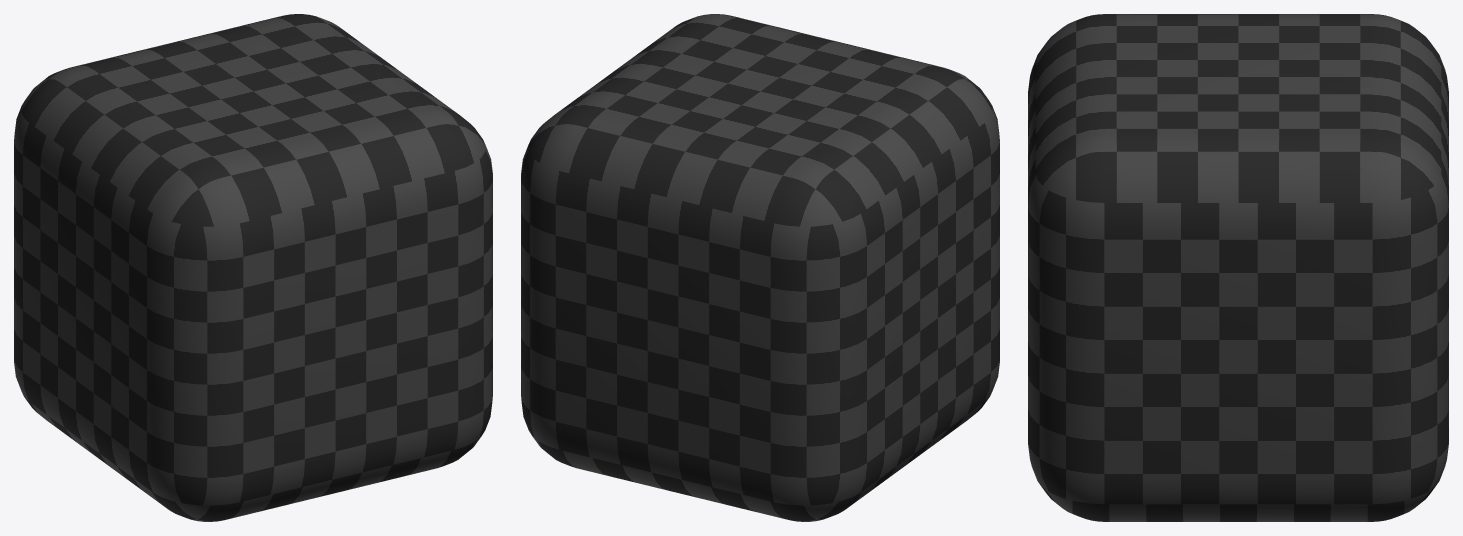
The model's file is FX_Staging_Box_1.FBX.
3 views of the same model, side by side, from view 1: azimuth 30°, elevation 25°; view 2: azimuth 150°, elevation 25°; view 3: azimuth 270°, elevation 25° (orthographic). The views are drawn at different scales.
Parts seen in each view (by area): view 1: FX_Staging_Box; view 2: FX_Staging_Box; view 3: FX_Staging_Box.
Part boxes in pixels (x1=…): FX_Staging_Box: x1=14, y1=14, x2=492, y2=521; FX_Staging_Box: x1=521, y1=14, x2=999, y2=521; FX_Staging_Box: x1=1028, y1=14, x2=1448, y2=521.
Size of the model in its own units: 100 by 100 by 100.
Materials: 1 (1 with a texture image).
